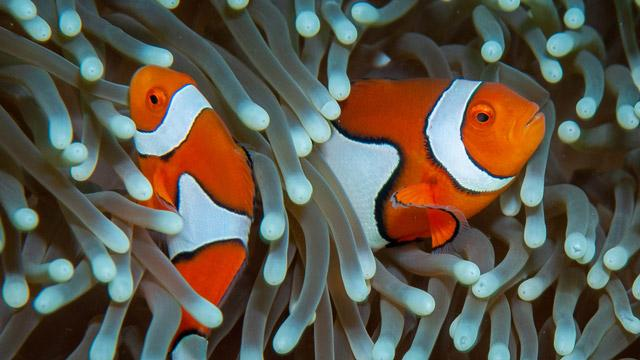Mulut: (502, 86, 560, 152)
Sirip Dada: (378, 170, 478, 267)
Sirip Punggung: (212, 130, 276, 340)
